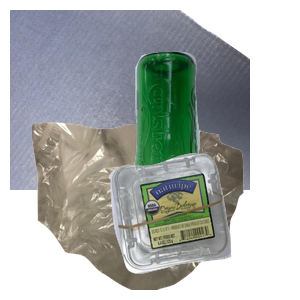cardboard: (10, 10, 250, 190)
glass: (129, 49, 300, 229)
plastic: (106, 151, 300, 300)
trash: (29, 120, 265, 300)
